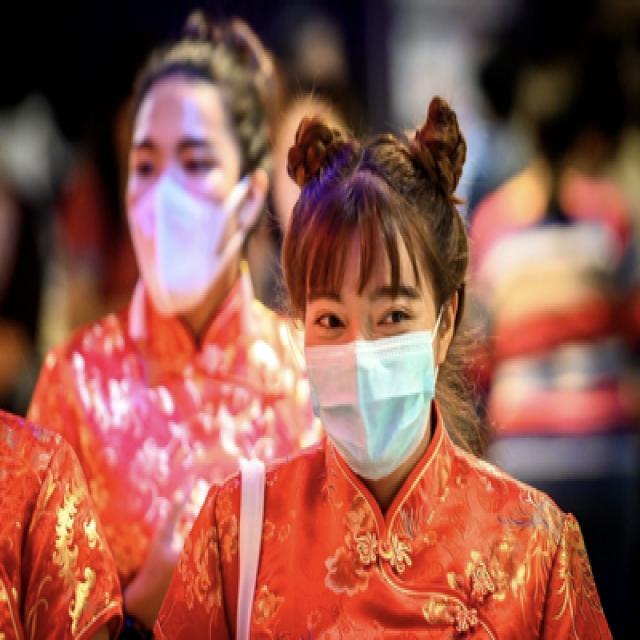mask: (307, 256, 443, 478), (123, 116, 245, 316)
